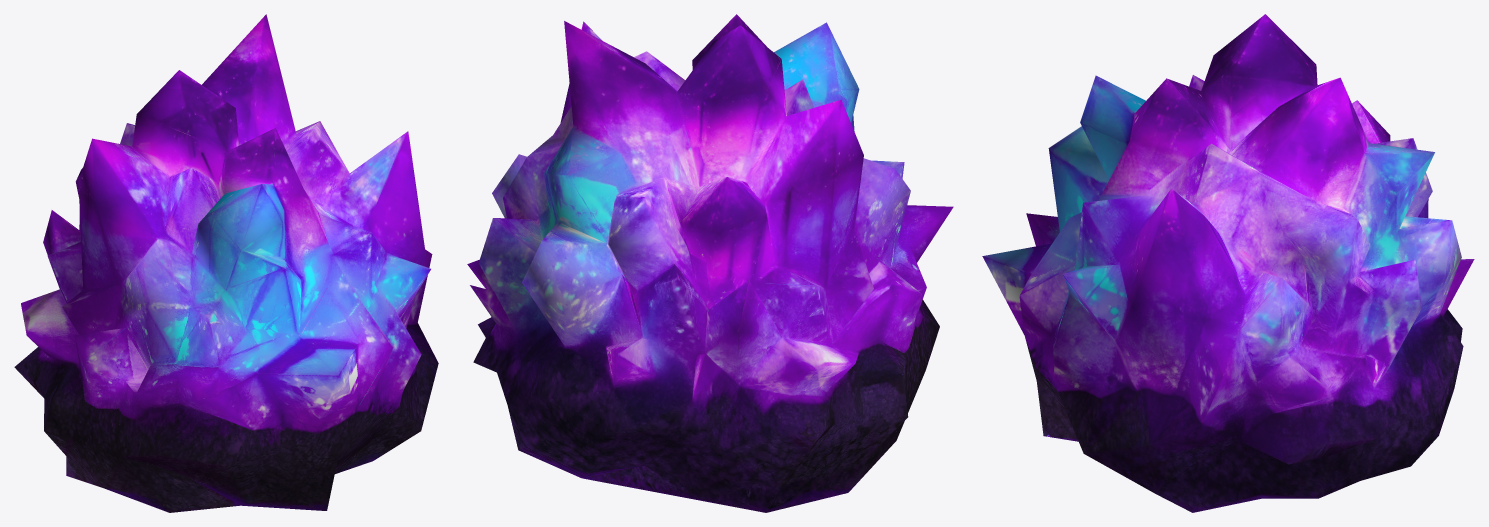
Rendered from p_vibrant_han_2.glb.
3 renders of one model, left to right at view 1: azimuth 30°, elevation 25°; view 2: azimuth 150°, elevation 25°; view 3: azimuth 270°, elevation 25°, orthographic. The views are drawn at different scales.
Parts seen in each view (by area): view 1: Mesh_0; view 2: Mesh_0; view 3: Mesh_0.
Boxes of the visible parts, x1=… form: Mesh_0: x1=14, y1=14, x2=438, y2=512; Mesh_0: x1=467, y1=14, x2=953, y2=512; Mesh_0: x1=982, y1=14, x2=1474, y2=512.
Bounding box in the file's own units: 1.81 × 1.79 × 1.94.
1 material, 1 textured.
